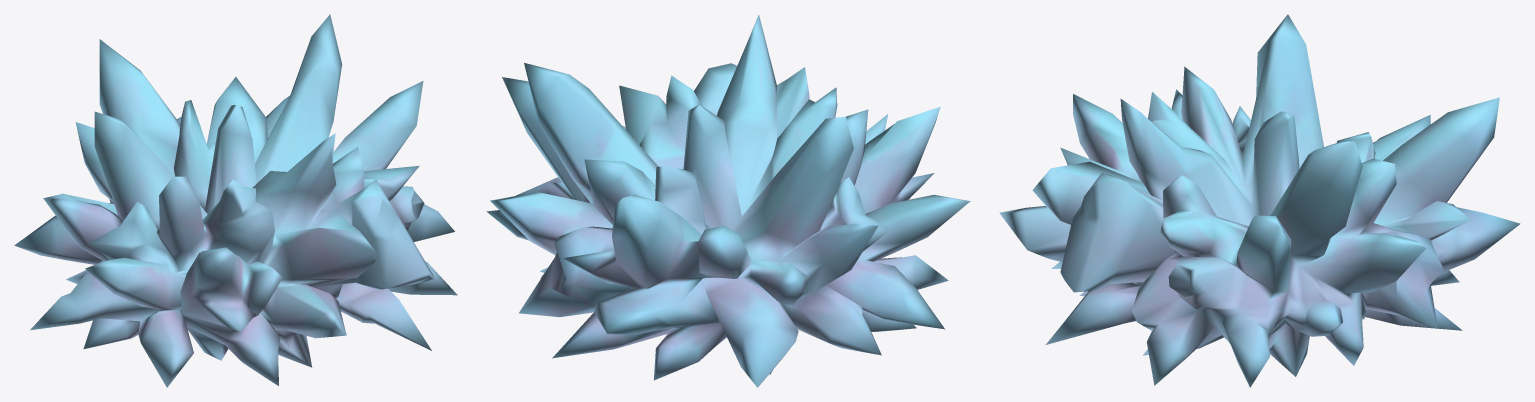
File: iceCrystals.glb
3 views of the same model, side by side, from view 1: azimuth 30°, elevation 25°; view 2: azimuth 150°, elevation 25°; view 3: azimuth 270°, elevation 25° (orthographic). The views are drawn at different scales.
Size of the model in its own units: 0.9405 by 0.4795 by 0.9648.
Materials: 1 (1 with a texture image).
